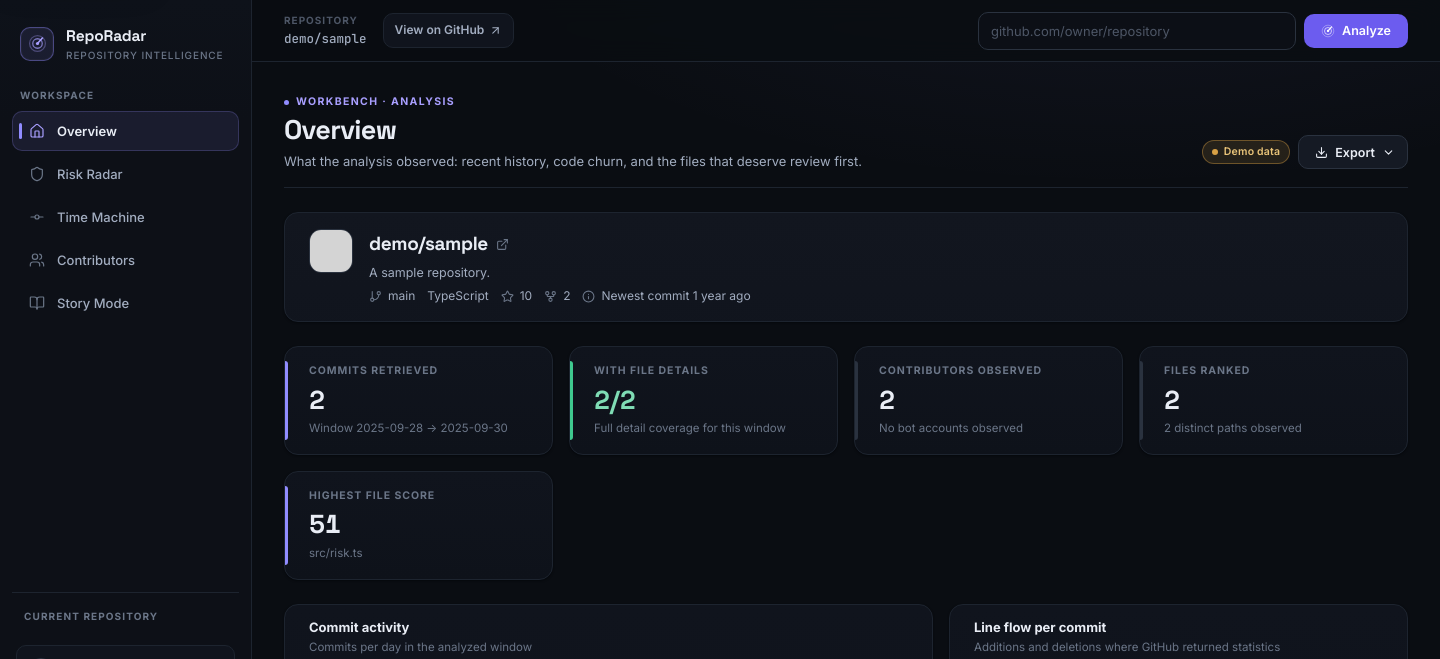
Test: App › keeps Story Mode Next/Back/Restart inside the story instead of navigating away
Expected: the heading "Overview" is shown, [284,112,396,147]
Click the button "Story Mode" at (126, 303), box [12,283,239,323]
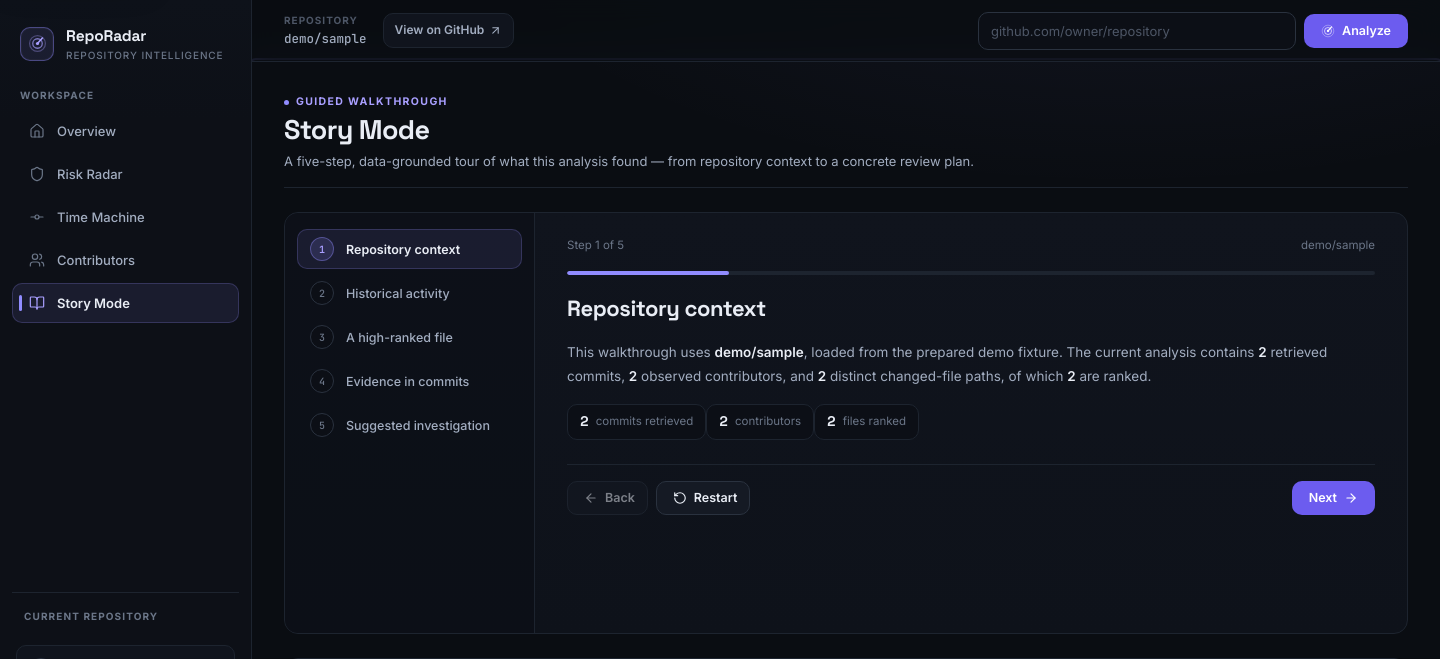
Now the text "Step 1 of 5" is shown, box [567,237,624,255]
Click the button "Next" at (1333, 498), box [1292,481,1375,515]
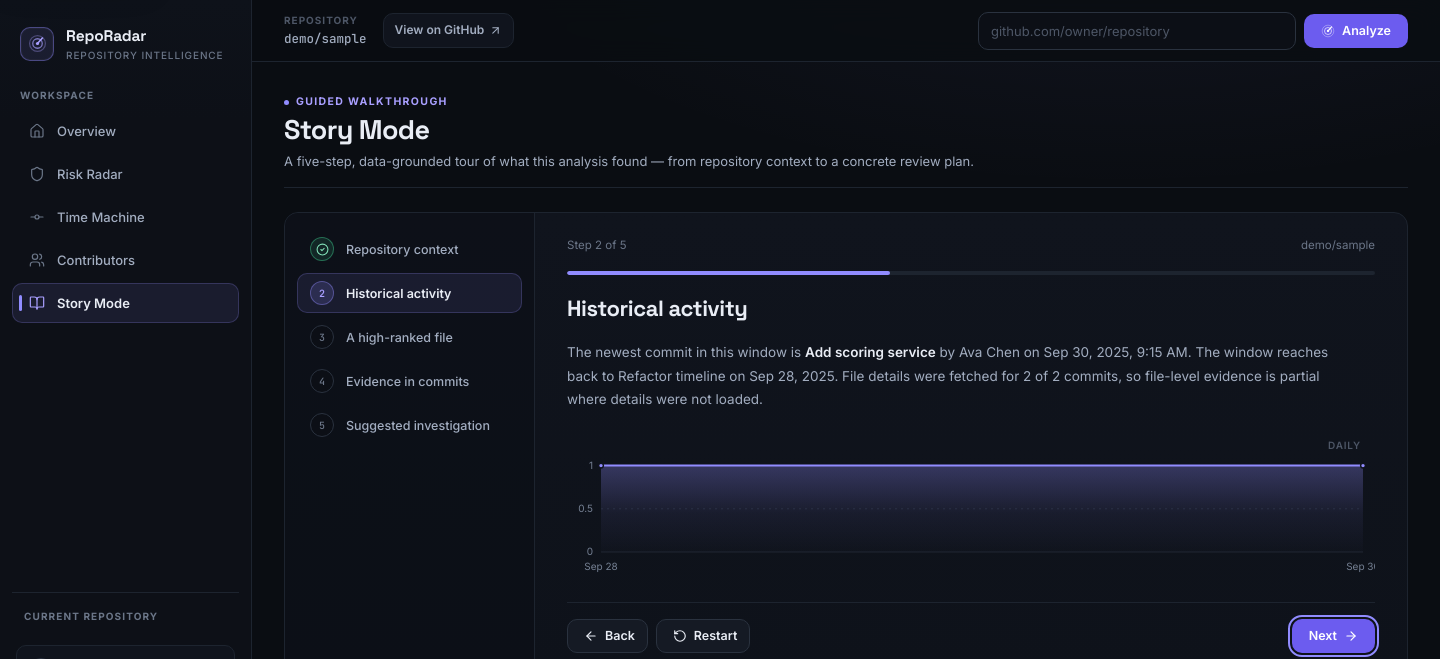
Now the heading "Historical activity" is shown, box [567,294,747,322]
Now the text "Step 2 of 5" is shown, box [567,237,626,255]
Click the button "Back" at (607, 636), box [567,619,648,653]
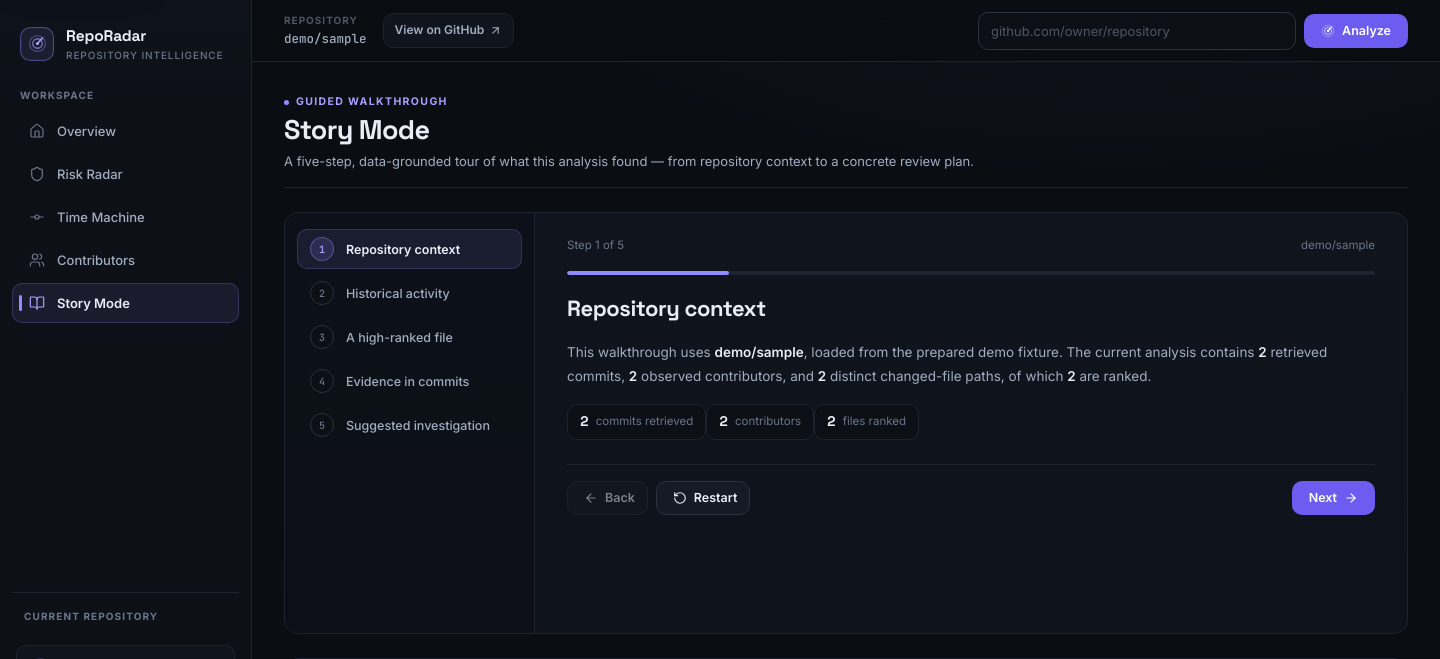
Now the text "Step 1 of 5" is shown, box [567,237,624,255]
Click the button "Next" at (1333, 498), box [1292,481,1375,515]
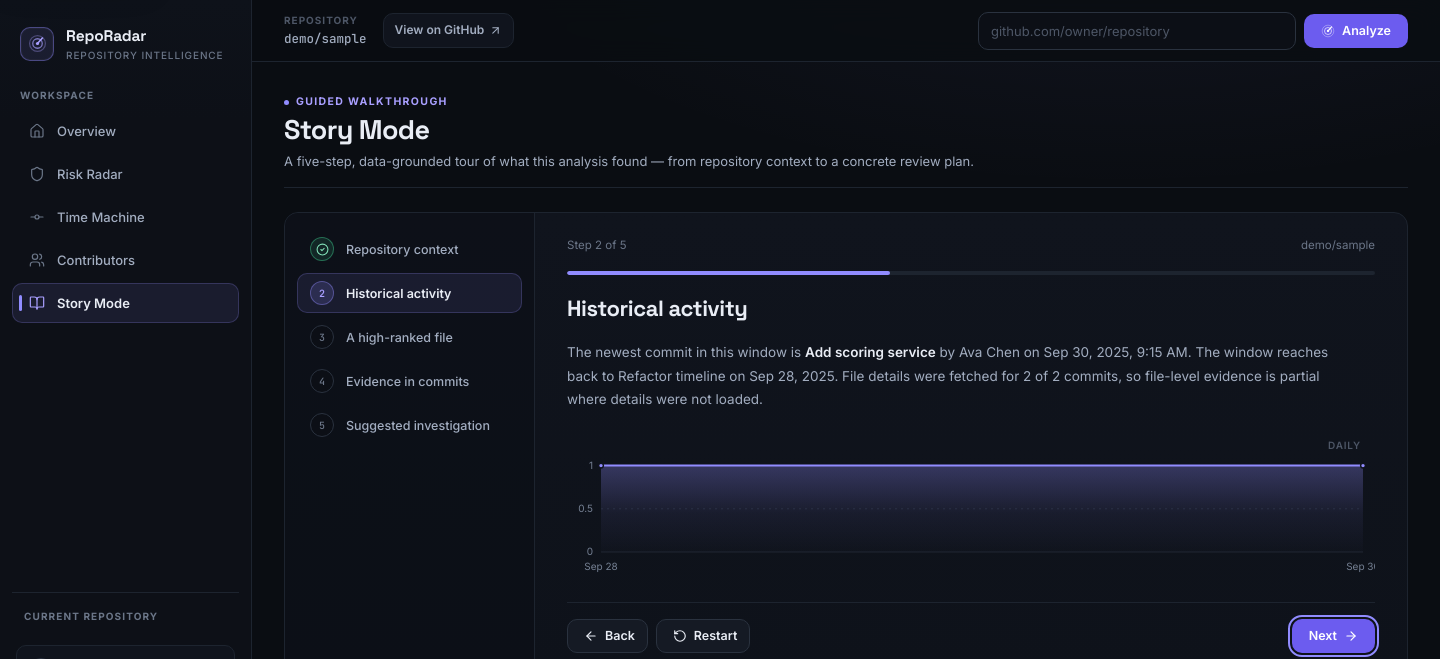
Click the button "Restart" at (703, 636), box [656,619,750,653]
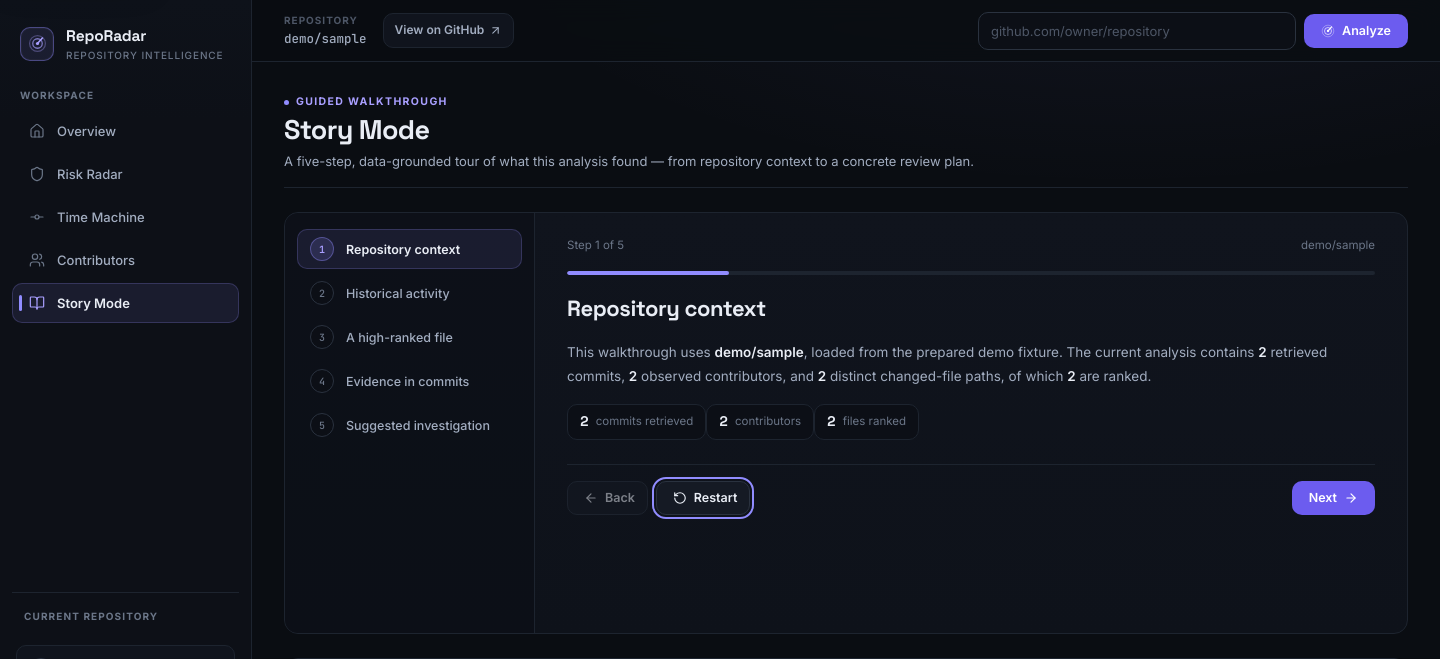
Now the text "Step 1 of 5" is shown, box [567,237,624,255]
